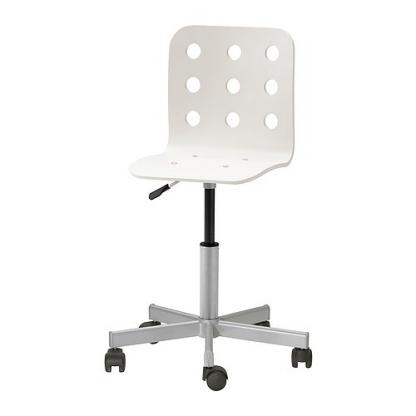Chair: (104, 23, 316, 393)
